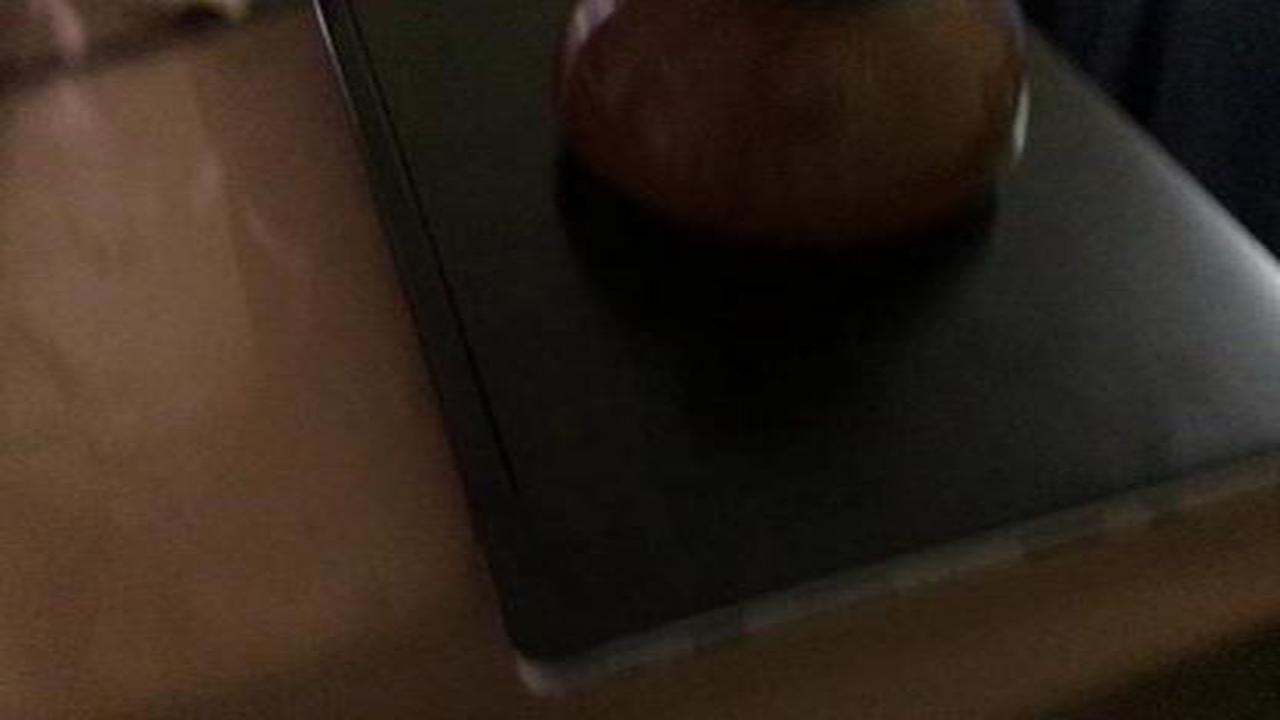insulator_pin: (536, 6, 1050, 245)
